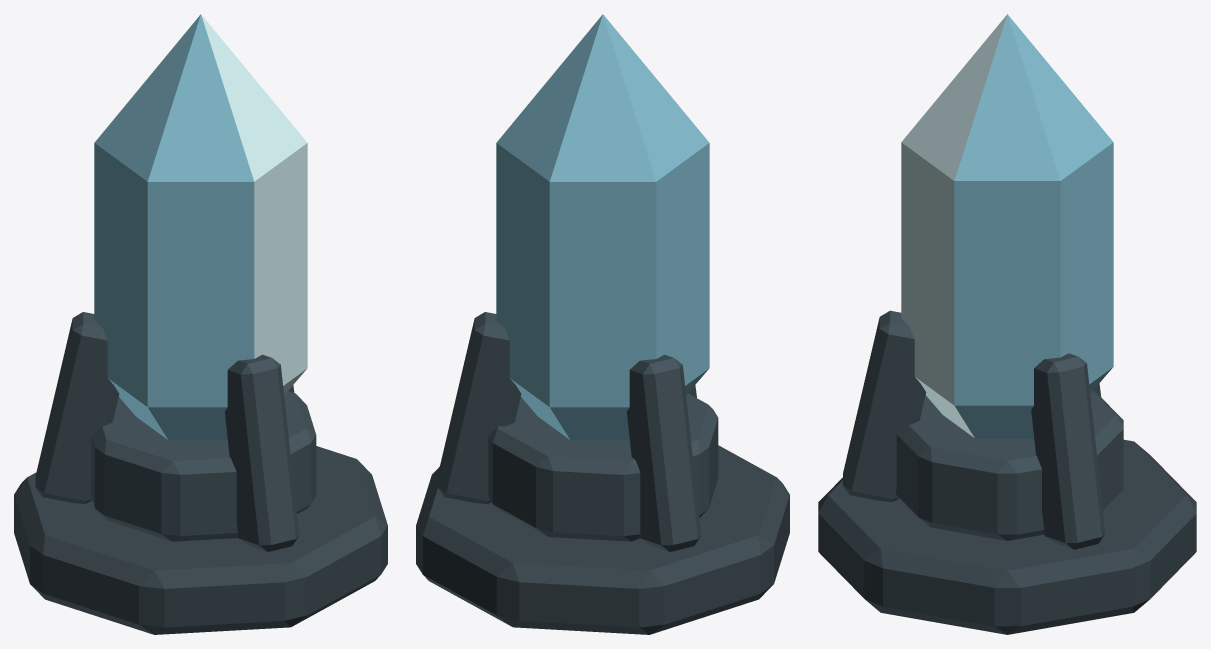
File: IceTower.glb
3 renders of one model, left to right at view 1: azimuth 30°, elevation 25°; view 2: azimuth 150°, elevation 25°; view 3: azimuth 270°, elevation 25°, orthographic.
Parts seen in each view (by area): view 1: Crystal, IceBase, IceCollar, IceSupport1, IceSupport3; view 2: Crystal, IceBase, IceCollar, IceSupport3, IceSupport2; view 3: Crystal, IceBase, IceCollar, IceSupport2, IceSupport1.
Part boxes in pixels (<box>): Crystal: <box>94,14,307,440</box>; IceBase: <box>14,446,387,634</box>; IceCollar: <box>91,391,316,541</box>; IceSupport1: <box>225,354,299,551</box>; IceSupport3: <box>35,312,119,503</box>; Crystal: <box>496,14,709,440</box>; IceBase: <box>416,445,789,634</box>; IceCollar: <box>488,393,718,541</box>; IceSupport3: <box>627,354,701,551</box>; IceSupport2: <box>437,312,521,503</box>; Crystal: <box>901,14,1113,438</box>; IceBase: <box>818,439,1196,634</box>; IceCollar: <box>896,390,1123,540</box>; IceSupport2: <box>1031,353,1105,549</box>; IceSupport1: <box>843,310,926,501</box>.
Size of the model in its own units: 1.07 by 1.7 by 1.07.
